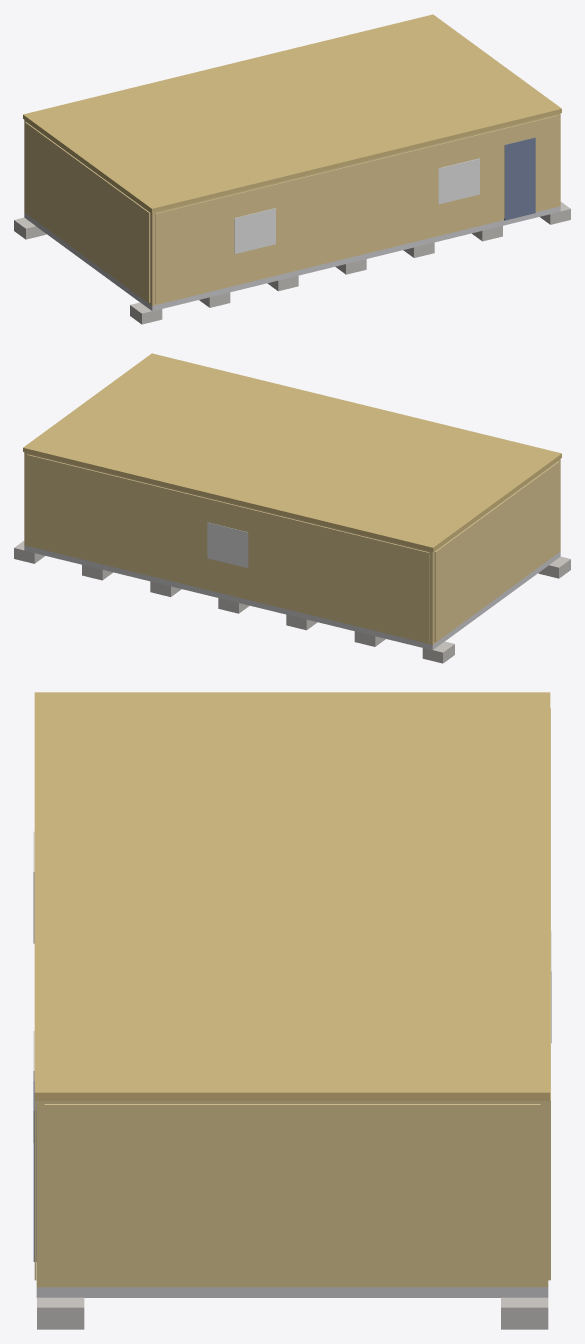
Rendered from Studio-40-Base-GoldenTan-LOD3.glb.
The picture shows the model from 3 angles, top to bottom: view 1: azimuth 30°, elevation 25°; view 2: azimuth 150°, elevation 25°; view 3: azimuth 270°, elevation 25°; orthographic projection. The views are drawn at different scales.
Parts seen in each view (by area): view 1: RoofMain, ExteriorPanelsStandard, BaseFrame, WindowsStandard, ExteriorShell, FoundationBlocks, EntryDoor; view 2: RoofMain, ExteriorPanelsStandard, BaseFrame, ExteriorShell, FoundationBlocks, WindowsStandard; view 3: RoofMain, ExteriorPanelsStandard, ExteriorShell, BaseFrame, FoundationBlocks.
Boxes of the visible parts, x1,y1,x2,y2 form: RoofMain: (23, 14, 561, 212); ExteriorPanelsStandard: (25, 115, 557, 303); BaseFrame: (24, 206, 560, 311); WindowsStandard: (234, 158, 479, 254); ExteriorShell: (24, 113, 560, 305); FoundationBlocks: (14, 201, 570, 324); EntryDoor: (504, 137, 535, 220); RoofMain: (23, 353, 561, 551); ExteriorPanelsStandard: (27, 454, 559, 642); BaseFrame: (24, 545, 560, 650); ExteriorShell: (24, 452, 560, 644); FoundationBlocks: (14, 541, 570, 663); WindowsStandard: (207, 522, 248, 567); RoofMain: (34, 692, 550, 1100); ExteriorPanelsStandard: (34, 708, 550, 1284); ExteriorShell: (36, 1101, 548, 1287); BaseFrame: (36, 1287, 548, 1297); FoundationBlocks: (37, 1297, 548, 1329).
Bounding box in the file's own units: 12.49 × 3.17 × 6.53.
